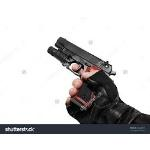Pistol: (47, 37, 116, 111)
